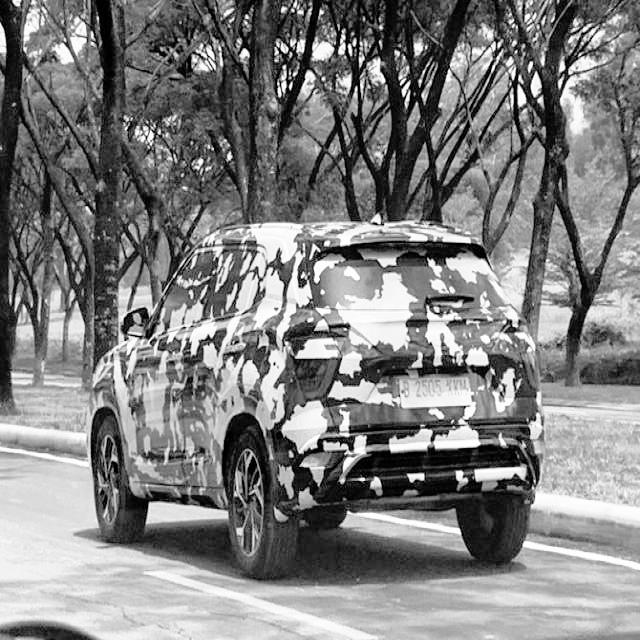Car: (83, 223, 551, 565)
